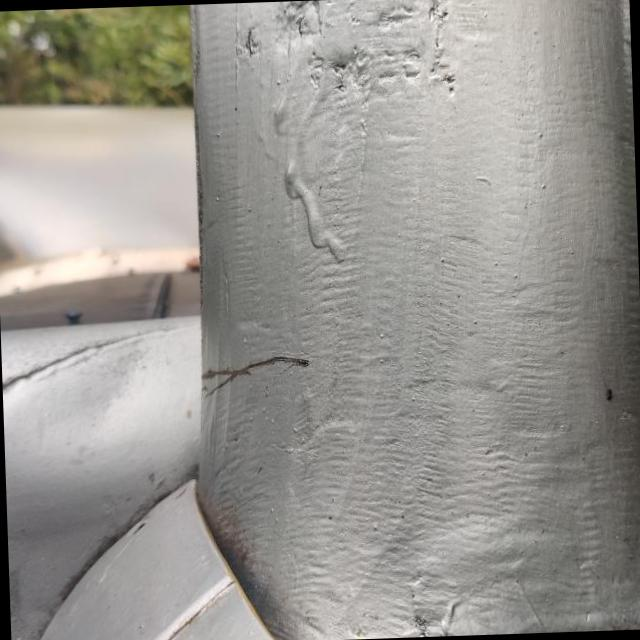Scratch: (201, 356, 308, 393)
